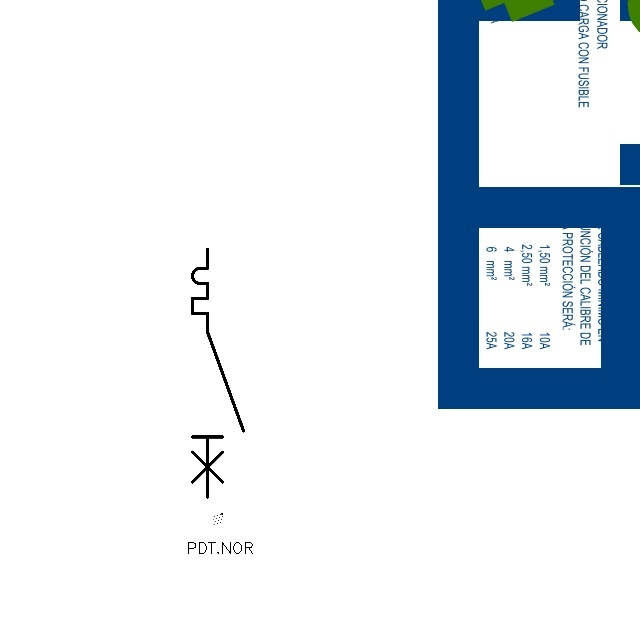interruptor_termomagnetico: (186, 243, 249, 503)
